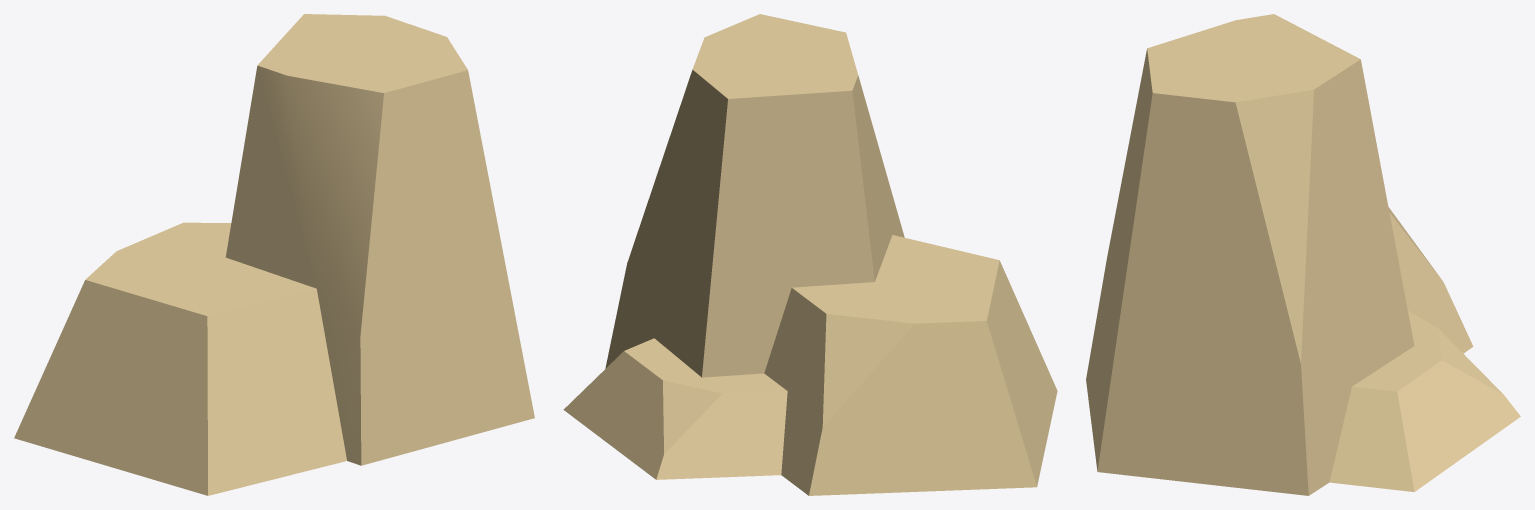
The model's file is stone01.fbx.
3 views of the same model, side by side, from view 1: azimuth 30°, elevation 25°; view 2: azimuth 150°, elevation 25°; view 3: azimuth 270°, elevation 25° (orthographic). The views are drawn at different scales.
Parts seen in each view (by area): view 1: rockA; view 2: rockA; view 3: rockA.
Part boxes in pixels (<box>): rockA: <box>14,14,534,495</box>; rockA: <box>563,14,1057,495</box>; rockA: <box>1086,14,1520,495</box>.
Size of the model in its own units: 21.86 by 15.46 by 17.02.
